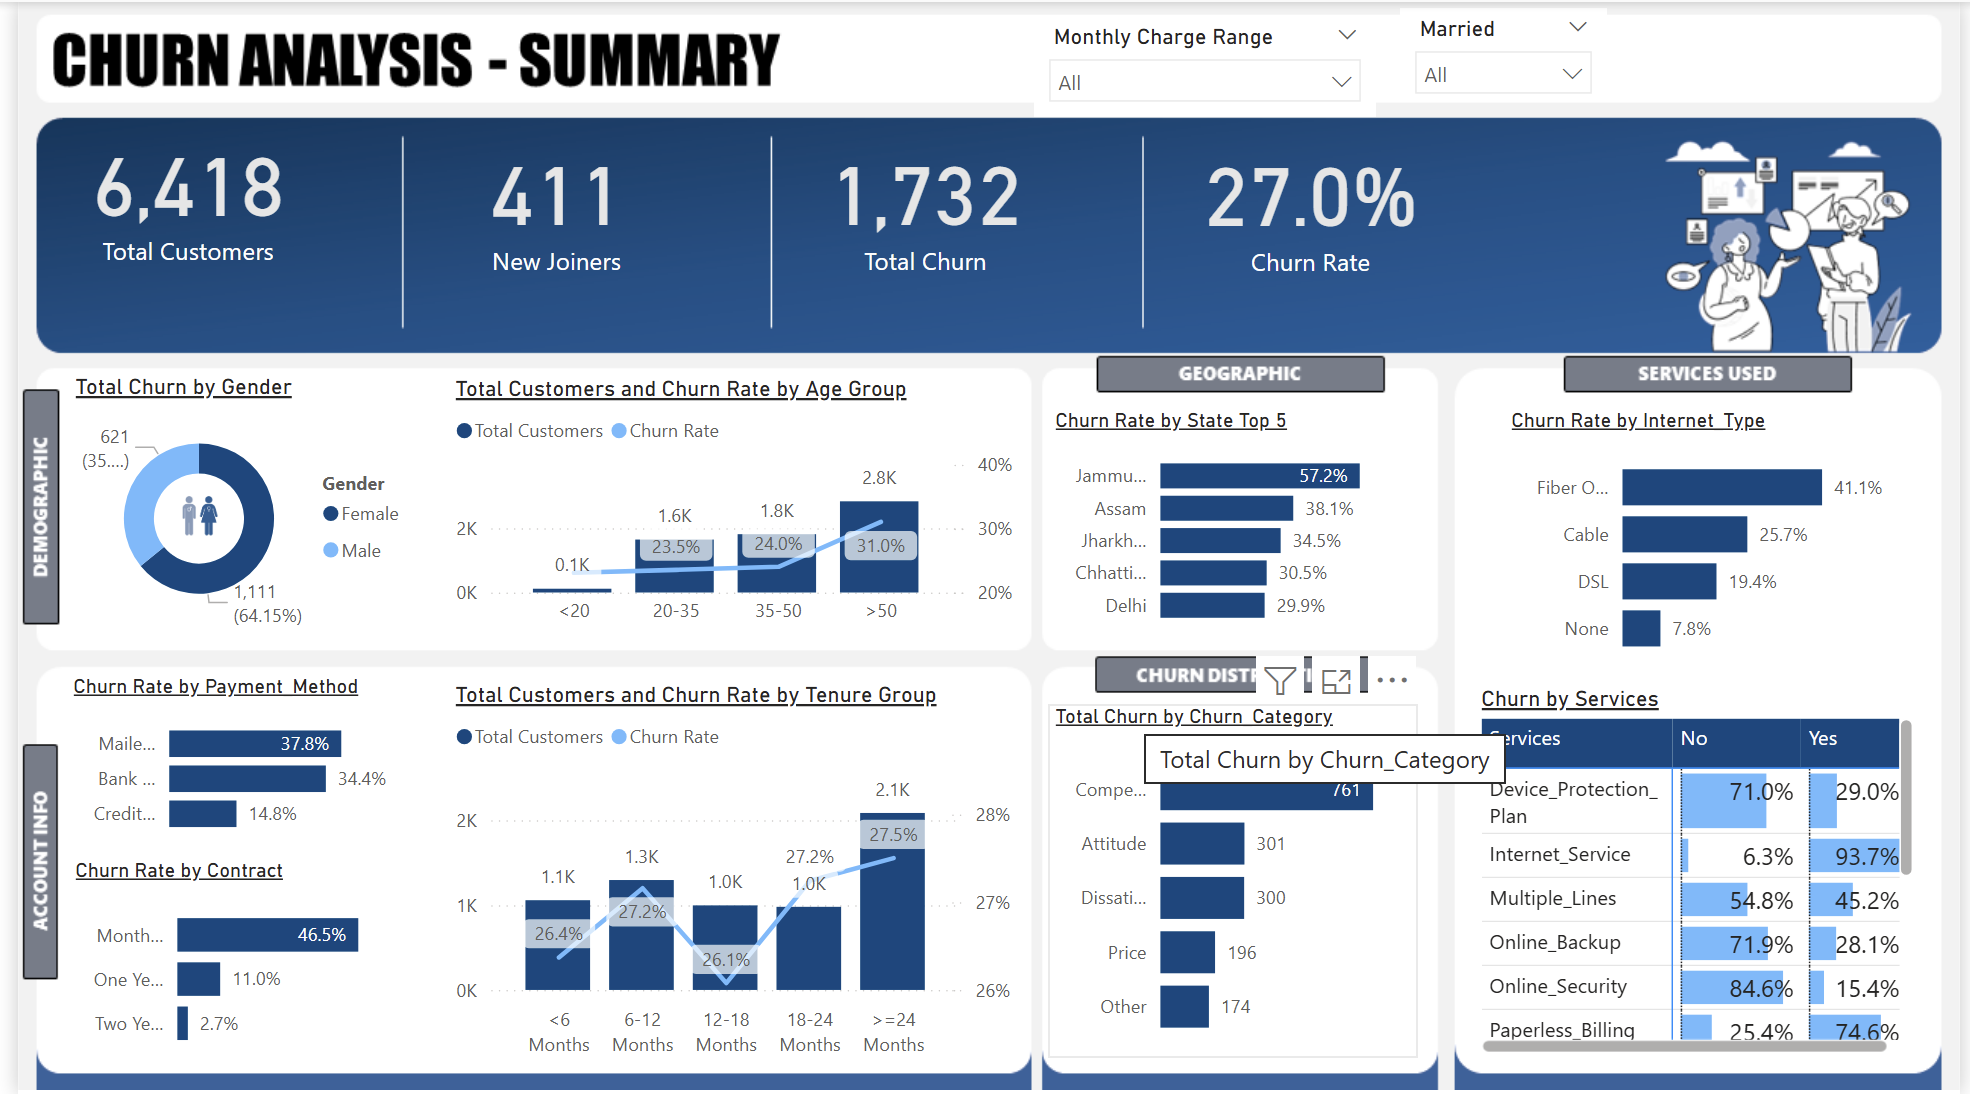

This screenshot's page, from the dashboard's own definition file:
{"tool":"powerbi","page":{"name":"Summary","canvas":[1280,720],"ordinal":0},"visuals":[{"type":"card","fields":{"Values":["tbl_Measures.New Joiners"]},"box":[251.1,81.3,209,100.2],"z":0},{"type":"card","fields":{"Values":["tbl_Measures.Total Customers"]},"box":[0,75.2,224.4,100.7],"z":1000},{"type":"card","fields":{"Values":["tbl_Measures.Total Churn"]},"box":[495,81.3,207.6,100.2],"z":2000},{"type":"card","fields":{"Values":["tbl_Measures.Churn Rate"]},"box":[740.3,81.3,225,101.6],"z":3000},{"type":"donutChart","fields":{"Category":["db_Churn prod_Churn.Gender"],"Y":["tbl_Measures.Total Churn"]},"box":[33.4,245.3,233.7,174.2],"z":4000},{"type":"lineStackedColumnComboChart","fields":{"Category":["mapping_AgeGrp.Age Group"],"Y":["tbl_Measures.Total Customers"],"Y2":["tbl_Measures.Churn Rate"]},"box":[283.1,246.8,377.4,172.7],"z":5000},{"type":"clusteredBarChart","fields":{"Category":["db_Churn prod_Churn.Payment_Method"],"Y":["tbl_Measures.Churn Rate"]},"box":[31.9,442.7,219.2,116.1],"z":6000},{"type":"clusteredBarChart","fields":{"Category":["db_Churn prod_Churn.Contract"],"Y":["tbl_Measures.Churn Rate"]},"box":[33.4,564.7,235.2,137.9],"z":7000},{"type":"lineStackedColumnComboChart","fields":{"Category":["mapping_TenureGrp.Tenure Group"],"Y":["tbl_Measures.Total Customers"],"Y2":["tbl_Measures.Churn Rate"]},"box":[283.1,448.5,376,254],"z":8000},{"type":"clusteredBarChart","title":"Churn Rate by State Top 5 ","fields":{"Category":["db_Churn prod_Churn.State"],"Y":["tbl_Measures.Churn Rate"]},"box":[679.4,267.1,243.9,152.4],"z":9000},{"type":"clusteredBarChart","fields":{"Category":["db_Churn prod_Churn.Churn_Category"],"Y":["tbl_Measures.Total Churn"]},"box":[679.4,463.1,243.9,233.7],"z":10000},{"type":"clusteredBarChart","fields":{"Category":["db_Churn prod_Churn.Internet_Type"],"Y":["tbl_Measures.Churn Rate"]},"box":[979.8,267.1,258.4,175.6],"z":11000},{"type":"pivotTable","title":"Churn by Services","fields":{"Rows":["prod_Services.Services"],"Columns":["prod_Services.Status"],"Values":["prod_Services.Churn Status"]},"box":[959.5,451.5,294.7,246.8],"z":12000},{"type":"slicer","fields":{"Values":["db_Churn prod_Churn.Monthly Charge Status"]},"box":[669.3,8.9,225.7,66.3],"z":13000},{"type":"image","box":[78.4,316.5,84.2,43.5],"z":13500},{"type":"slicer","fields":{"Values":["db_Churn prod_Churn.Married"]},"box":[911.6,4.4,136.5,58.1],"z":14000}]}

Visuals, with their boxes in screenshot pixels (x1, y1, x2, y2), scaled from the page's 1280x720 canvas onto the 1970x1094 screenshot:
card - tbl_Measures.New Joiners: [386, 124, 708, 276]
card - tbl_Measures.Total Customers: [0, 114, 345, 267]
card - tbl_Measures.Total Churn: [762, 124, 1081, 276]
card - tbl_Measures.Churn Rate: [1139, 124, 1486, 278]
donutChart - db_Churn prod_Churn.Gender x tbl_Measures.Total Churn: [51, 373, 411, 637]
lineStackedColumnComboChart - mapping_AgeGrp.Age Group x tbl_Measures.Total Customers: [436, 375, 1017, 637]
clusteredBarChart - db_Churn prod_Churn.Payment_Method x tbl_Measures.Churn Rate: [49, 673, 386, 849]
clusteredBarChart - db_Churn prod_Churn.Contract x tbl_Measures.Churn Rate: [51, 858, 413, 1068]
lineStackedColumnComboChart - mapping_TenureGrp.Tenure Group x tbl_Measures.Total Customers: [436, 681, 1014, 1067]
"Churn Rate by State Top 5 " clusteredBarChart: [1046, 406, 1421, 637]
clusteredBarChart - db_Churn prod_Churn.Churn_Category x tbl_Measures.Total Churn: [1046, 704, 1421, 1059]
clusteredBarChart - db_Churn prod_Churn.Internet_Type x tbl_Measures.Churn Rate: [1508, 406, 1906, 673]
"Churn by Services" pivotTable: [1477, 686, 1930, 1061]
slicer - db_Churn prod_Churn.Monthly Charge Status: [1030, 14, 1377, 114]
image: [121, 481, 250, 547]
slicer - db_Churn prod_Churn.Married: [1403, 7, 1613, 95]
